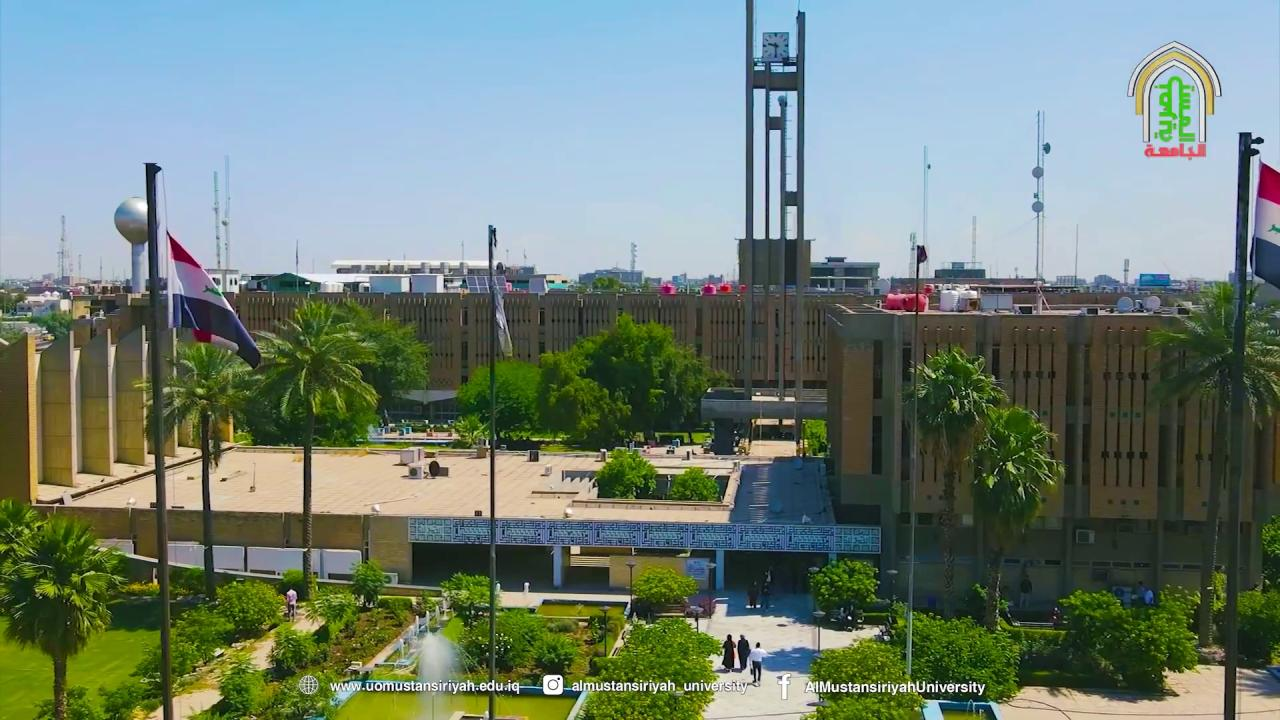fountain: (328, 614, 495, 718), (699, 385, 828, 455), (728, 454, 837, 525), (925, 678, 1003, 720)
person: (747, 641, 768, 686), (721, 634, 735, 672), (736, 634, 750, 671), (1019, 573, 1032, 608), (286, 588, 298, 622), (746, 579, 758, 608), (759, 581, 771, 610), (1050, 605, 1060, 630), (1135, 580, 1146, 602)
tree: (1140, 272, 1279, 650), (246, 299, 381, 600), (131, 340, 261, 601), (898, 343, 1009, 620), (534, 310, 733, 448), (0, 510, 127, 718), (966, 402, 1065, 630), (1056, 586, 1200, 693), (577, 614, 721, 718), (884, 600, 1022, 707), (336, 297, 433, 438), (798, 636, 926, 719), (533, 349, 630, 449), (454, 357, 541, 446), (456, 607, 547, 676), (808, 556, 879, 626), (214, 576, 283, 636), (0, 496, 44, 590), (629, 565, 699, 620), (594, 446, 658, 499), (268, 621, 328, 675), (439, 571, 502, 617), (668, 465, 720, 502), (349, 557, 387, 607), (276, 568, 319, 601), (451, 412, 488, 448), (800, 417, 827, 456)
